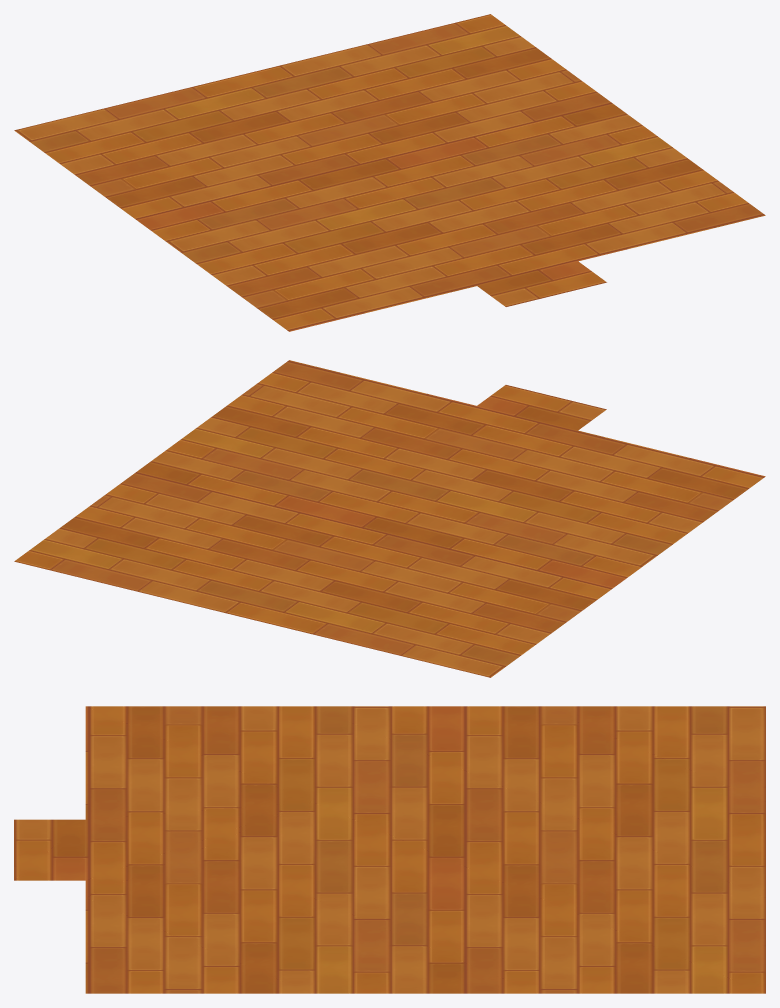
File: Floor04_a01.FBX
The picture shows the model from 3 angles, top to bottom: view 1: azimuth 30°, elevation 25°; view 2: azimuth 150°, elevation 25°; view 3: azimuth 270°, elevation 25°; orthographic projection. The views are drawn at different scales.
Parts seen in each view (by area): view 1: Floor04_a01; view 2: Floor04_a01; view 3: Floor04_a01.
Boxes of the visible parts, x1=… form: Floor04_a01: x1=14, y1=14, x2=765, y2=331; Floor04_a01: x1=14, y1=360, x2=765, y2=677; Floor04_a01: x1=14, y1=706, x2=765, y2=993.
Bounding box in the file's own units: 900 × 0.000446 × 995.
1 material, 1 textured.
